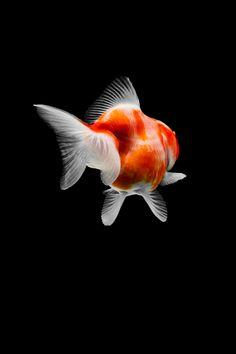goldfish: (36, 85, 215, 234)
